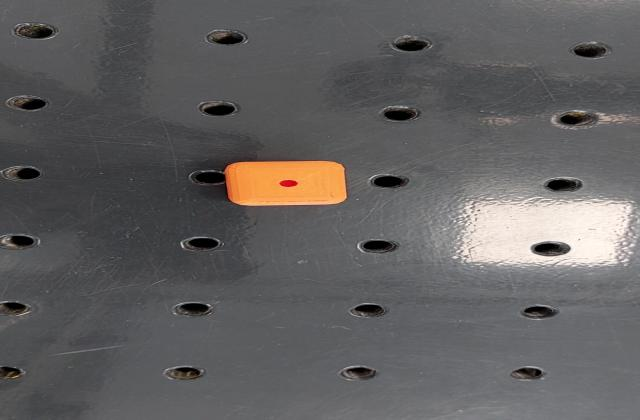cube: (219, 158, 353, 208)
